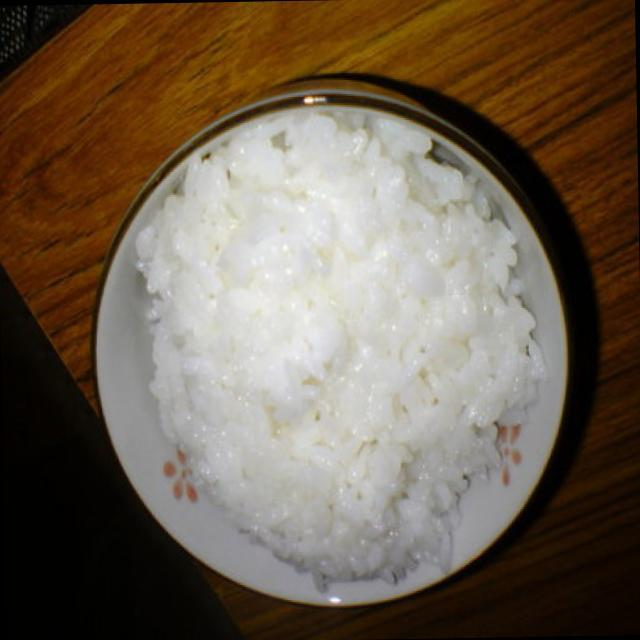Rice: (137, 147, 542, 576)
